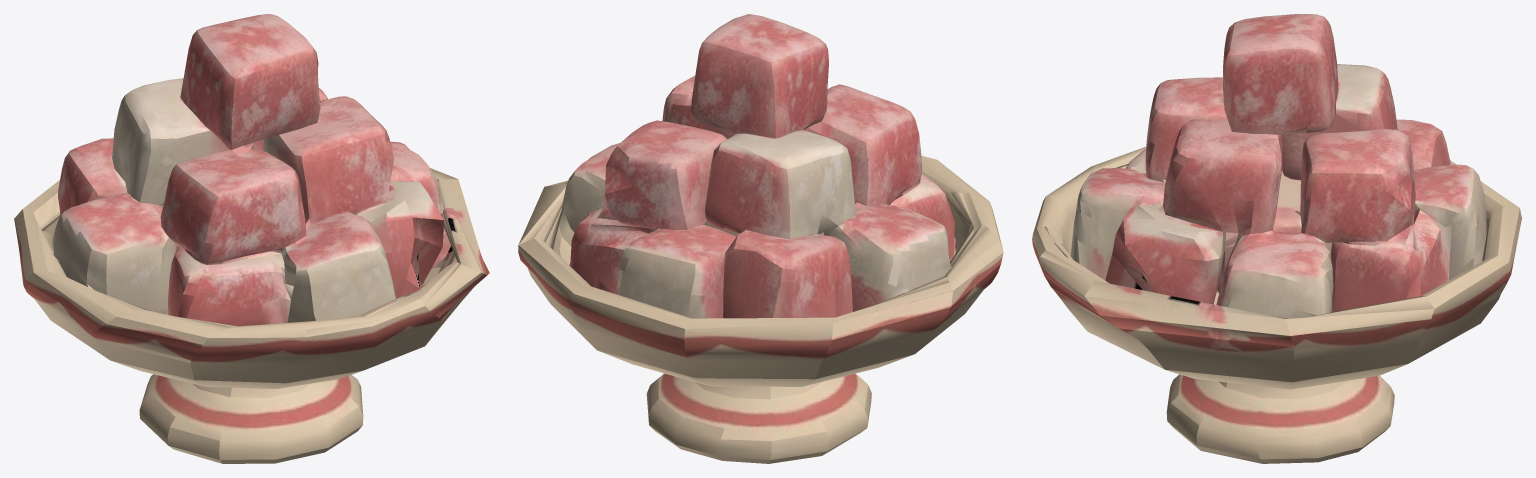
File: lokum.glb
The picture shows the model from 3 angles, left to right: view 1: azimuth 30°, elevation 25°; view 2: azimuth 150°, elevation 25°; view 3: azimuth 270°, elevation 25°; orthographic projection.
Parts seen in each view (by area): view 1: Mesh0; view 2: Mesh0; view 3: Mesh0.
Boxes of the visible parts, x1,y1,x2,y2 form: Mesh0: (14, 14, 489, 463); Mesh0: (518, 14, 1003, 463); Mesh0: (1032, 14, 1521, 463).
Bounding box in the file's own units: 1.89 × 1.67 × 1.88.
Materials: 1 (1 with a texture image).
